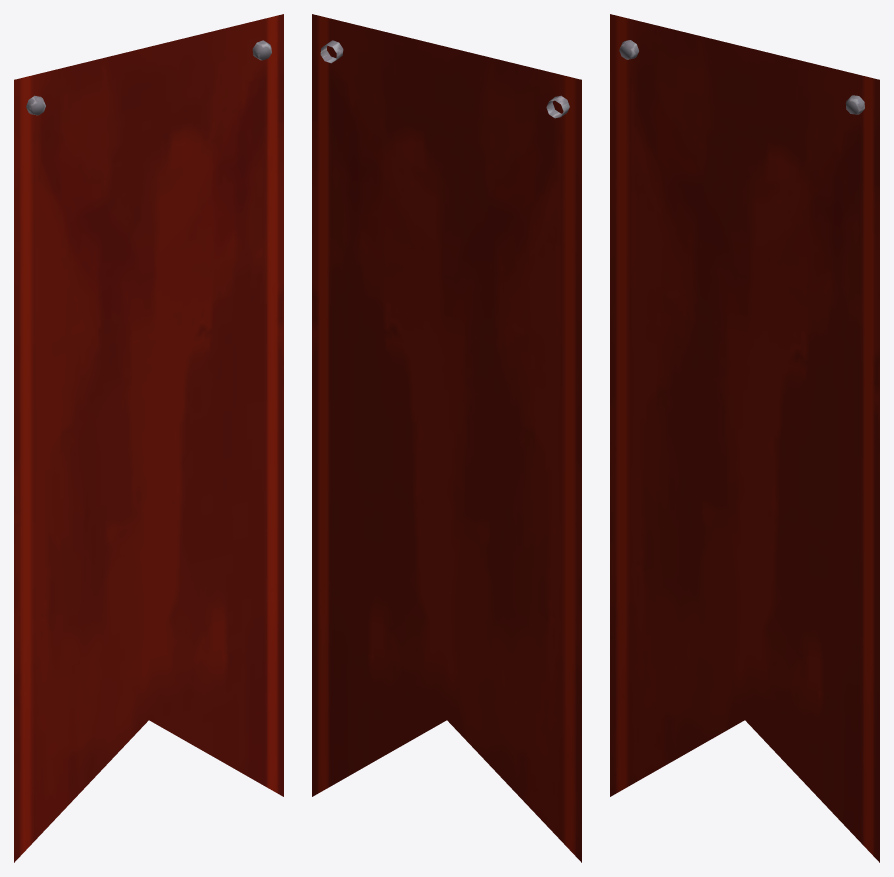
File: banner_1_cloth.glb
3 renders of one model, left to right at view 1: azimuth 30°, elevation 25°; view 2: azimuth 150°, elevation 25°; view 3: azimuth 330°, elevation 25°, orthographic.
Visible parts, largest first — view 1: Banner_1_Cloth; view 2: Banner_1_Cloth; view 3: Banner_1_Cloth.
Part boxes in pixels (x1,y1,x2,y2): Banner_1_Cloth: [14, 14, 283, 862]; Banner_1_Cloth: [312, 14, 581, 862]; Banner_1_Cloth: [610, 14, 879, 862].
Bounding box in the file's own units: 0.8101 × 2.25 × 0.0568.
Materials: 2 (2 with a texture image).
